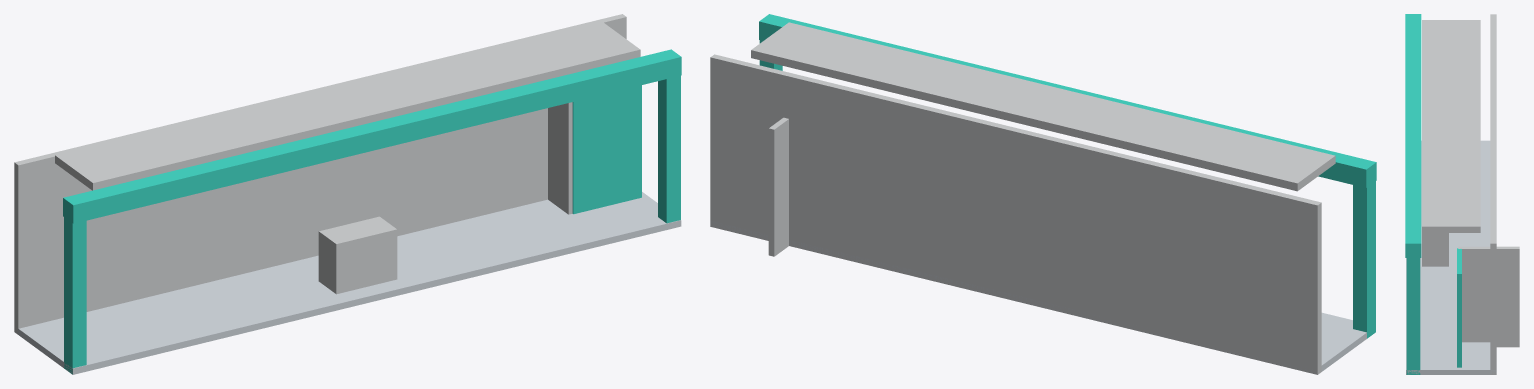
3 views of the same model, side by side, from view 1: azimuth 30°, elevation 25°; view 2: azimuth 150°, elevation 25°; view 3: azimuth 270°, elevation 25° (orthographic). The views are drawn at different scales.
Visible parts, largest first — view 1: Exhibition Booth Concept; view 2: Exhibition Booth Concept; view 3: Exhibition Booth Concept.
Part boxes in pixels (x1,y1,x2,y2): Exhibition Booth Concept: [14, 14, 681, 374]; Exhibition Booth Concept: [710, 14, 1376, 374]; Exhibition Booth Concept: [1405, 14, 1519, 374].
Size of the model in its own units: 12 by 3.34 by 2.52.
